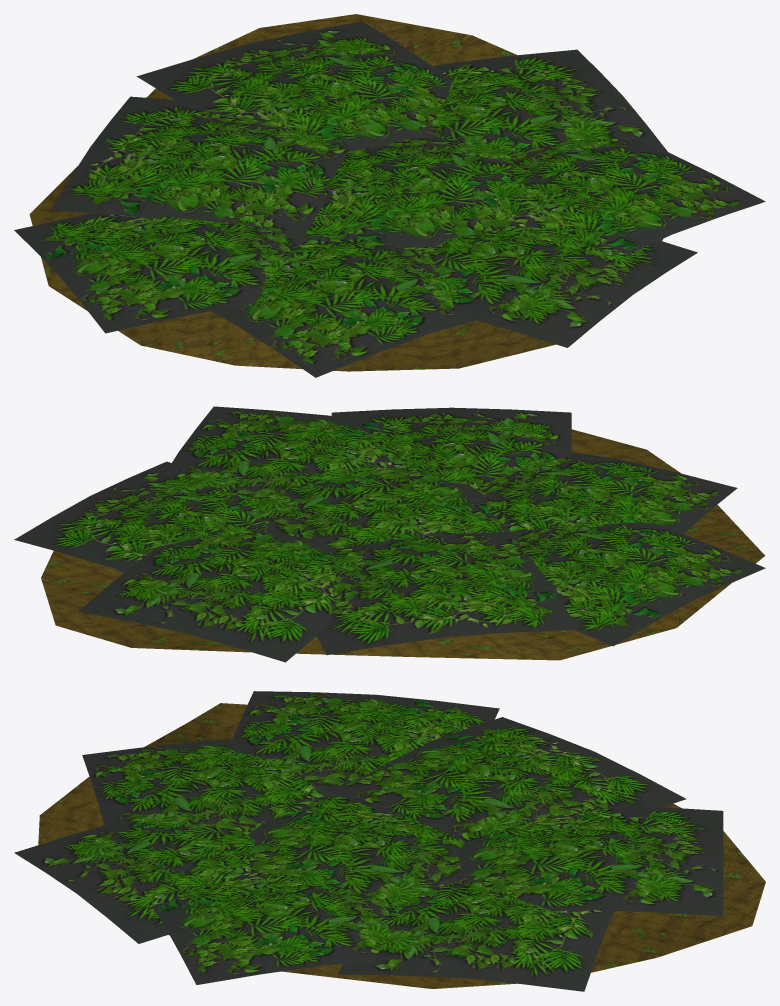
The model's file is INST_PITCOVER.fbx.
3 renders of one model, top to bottom at view 1: azimuth 30°, elevation 25°; view 2: azimuth 150°, elevation 25°; view 3: azimuth 270°, elevation 25°, orthographic. The views are drawn at different scales.
Visible parts, largest first — view 1: INST_PITCOVER; view 2: INST_PITCOVER; view 3: INST_PITCOVER.
Part boxes in pixels (bbox=[...]): INST_PITCOVER: bbox=[14, 14, 765, 377]; INST_PITCOVER: bbox=[14, 406, 765, 662]; INST_PITCOVER: bbox=[14, 691, 765, 991].
Bounding box in the file's own units: 136879 × 9159 × 144657.
2 materials, 2 textured.
